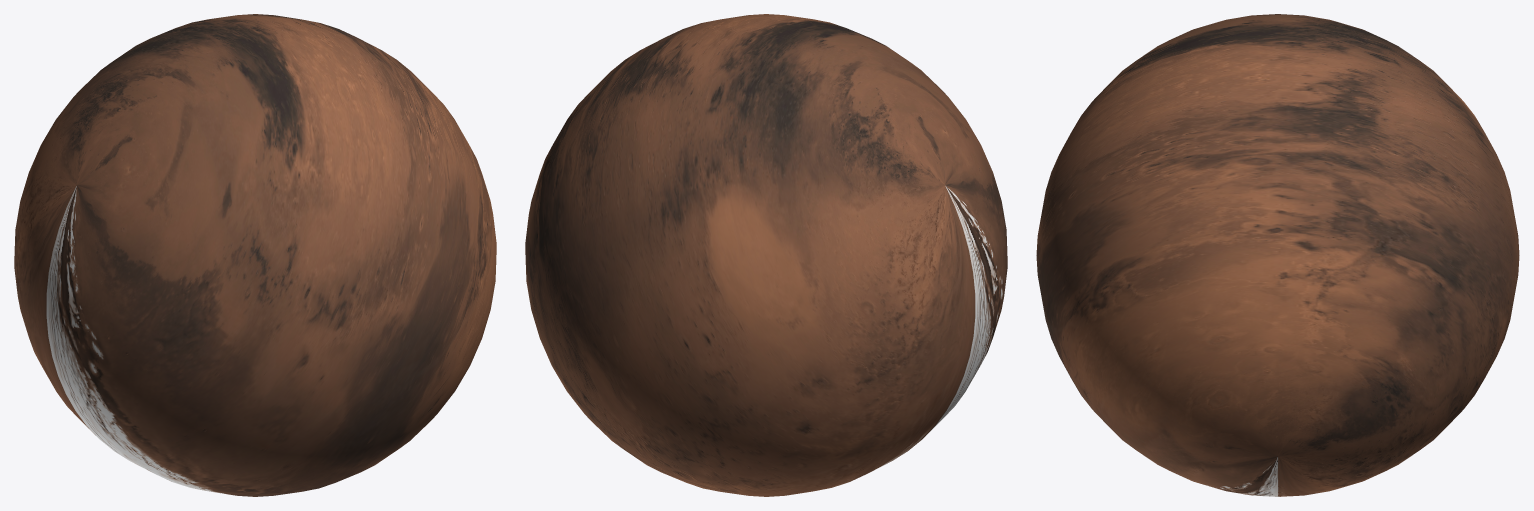
File: mars.obj
3 renders of one model, left to right at view 1: azimuth 30°, elevation 25°; view 2: azimuth 150°, elevation 25°; view 3: azimuth 270°, elevation 25°, orthographic.
Visible parts, largest first — view 1: MarsPlanet:Mesh; view 2: MarsPlanet:Mesh; view 3: MarsPlanet:Mesh.
Part boxes in pixels (x1,y1,x2,y2): MarsPlanet:Mesh: [14, 14, 496, 496]; MarsPlanet:Mesh: [525, 14, 1007, 496]; MarsPlanet:Mesh: [1036, 14, 1519, 496].
Bounding box in the file's own units: 30.18 × 30.18 × 30.21.
1 material, 1 textured.
